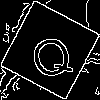Q: (25, 25, 77, 83)
